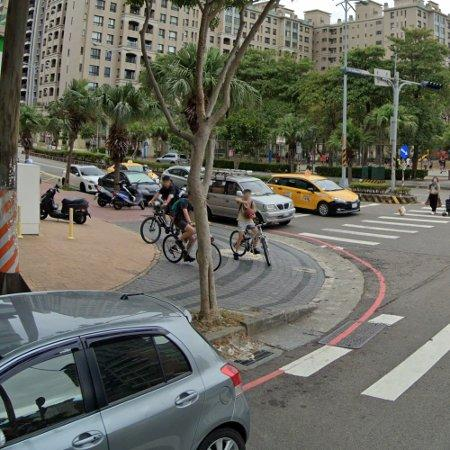crosswalks: (299, 210, 450, 251)
